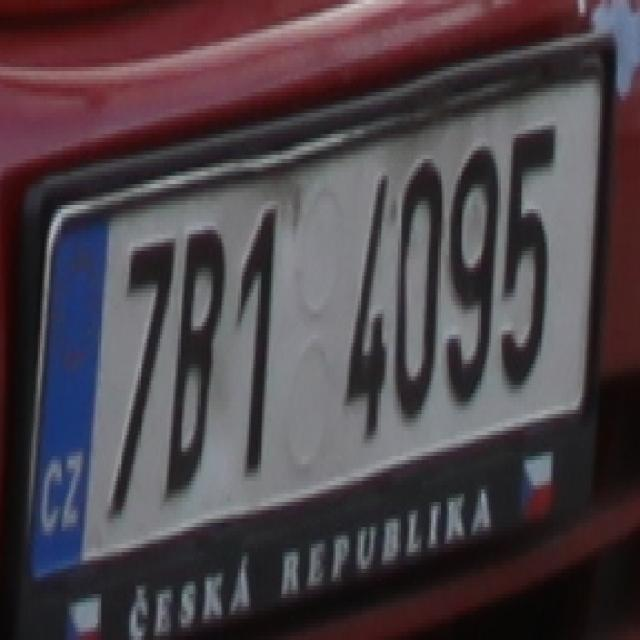0: (393, 155, 442, 422)
1: (231, 205, 273, 481)
4: (342, 176, 391, 452)
5: (502, 122, 554, 394)
7: (107, 234, 173, 506)
9: (444, 142, 494, 398)
B: (173, 222, 224, 506)
